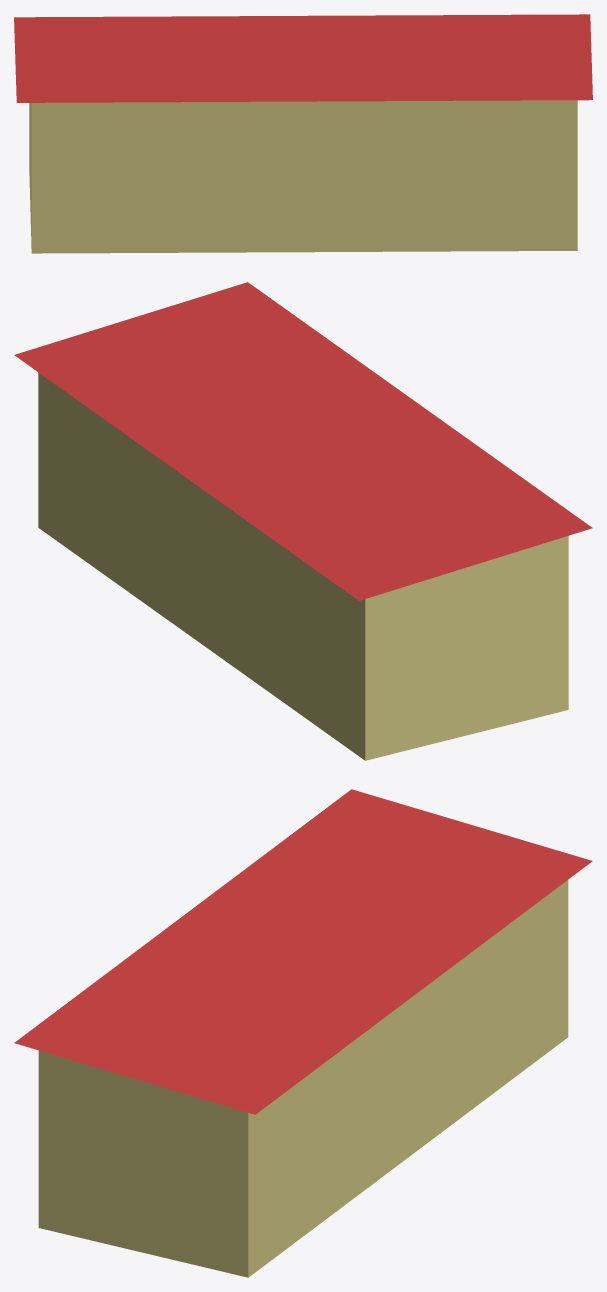
The picture shows the model from 3 angles, top to bottom: view 1: azimuth 30°, elevation 25°; view 2: azimuth 150°, elevation 25°; view 3: azimuth 270°, elevation 25°; orthographic projection. The views are drawn at different scales.
Bounding box in the file's own units: 20.35 × 16 × 5.73.
